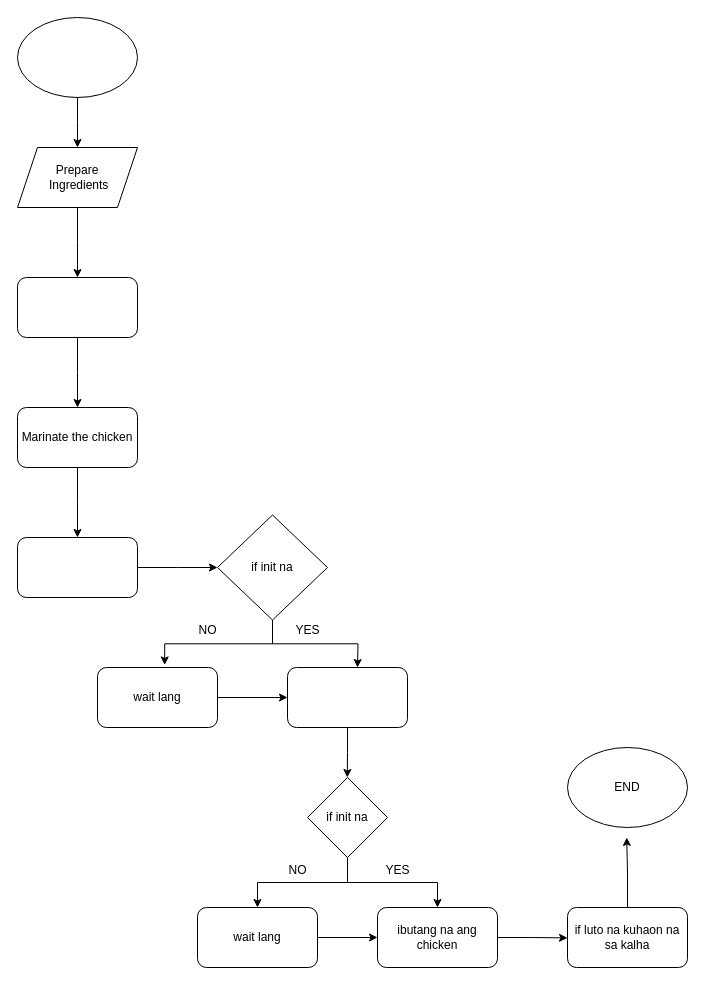
The diagram is 705 pixels wide and 985 high, and some of its shapes have lost their labels. Each missing label, with the box of its shape:
ibutang ang kalha sa kalayo: (16, 536, 138, 598)
Mag butang nag oil sa kalha: (286, 666, 408, 728)
START: (16, 16, 138, 98)
Wash the Chicken: (16, 276, 138, 338)
